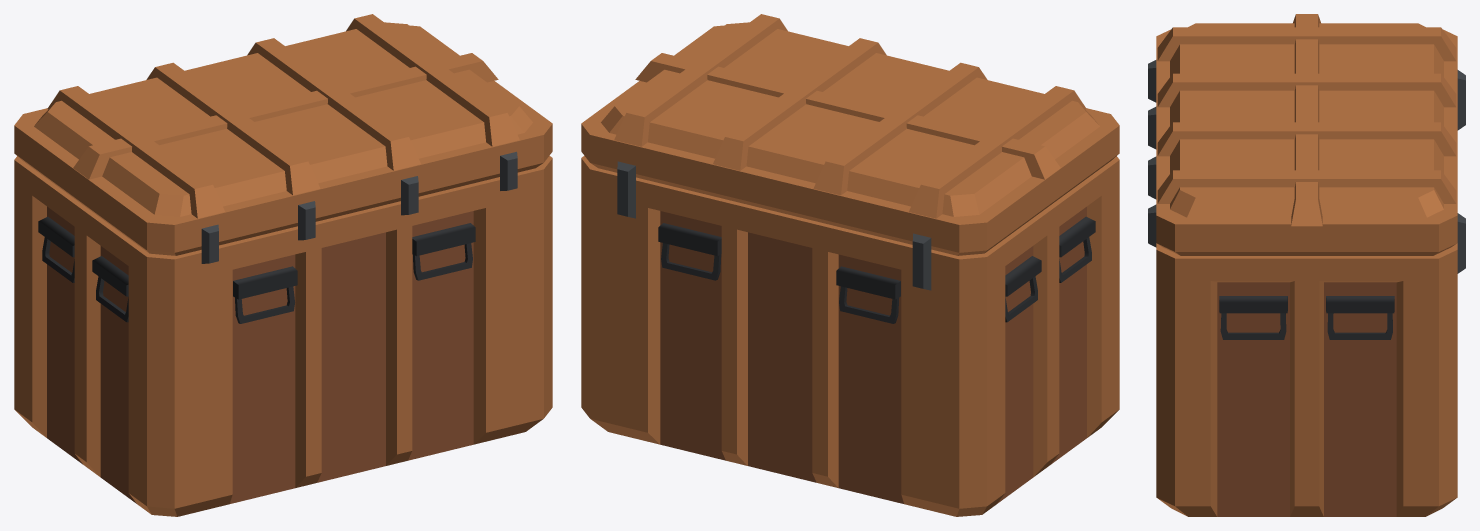
Rendered from SM_Prop_Crate_Plastic_04.fbx.
3 renders of one model, left to right at view 1: azimuth 30°, elevation 25°; view 2: azimuth 150°, elevation 25°; view 3: azimuth 270°, elevation 25°, orthographic.
Parts seen in each view (by area): view 1: SM_Prop_Crate_Plastic_04, SM_Prop_Crate_Plastic_Lid_04; view 2: SM_Prop_Crate_Plastic_04, SM_Prop_Crate_Plastic_Lid_04; view 3: SM_Prop_Crate_Plastic_04, SM_Prop_Crate_Plastic_Lid_04.
Part boxes in pixels (box(x1,y1,x2,y2)): SM_Prop_Crate_Plastic_04: box(14, 156, 552, 516); SM_Prop_Crate_Plastic_Lid_04: box(14, 14, 552, 263); SM_Prop_Crate_Plastic_04: box(581, 156, 1119, 516); SM_Prop_Crate_Plastic_Lid_04: box(581, 14, 1119, 255); SM_Prop_Crate_Plastic_04: box(1156, 70, 1465, 516); SM_Prop_Crate_Plastic_Lid_04: box(1148, 14, 1457, 255).
Size of the model in its own units: 121 by 91.33 by 81.93.
